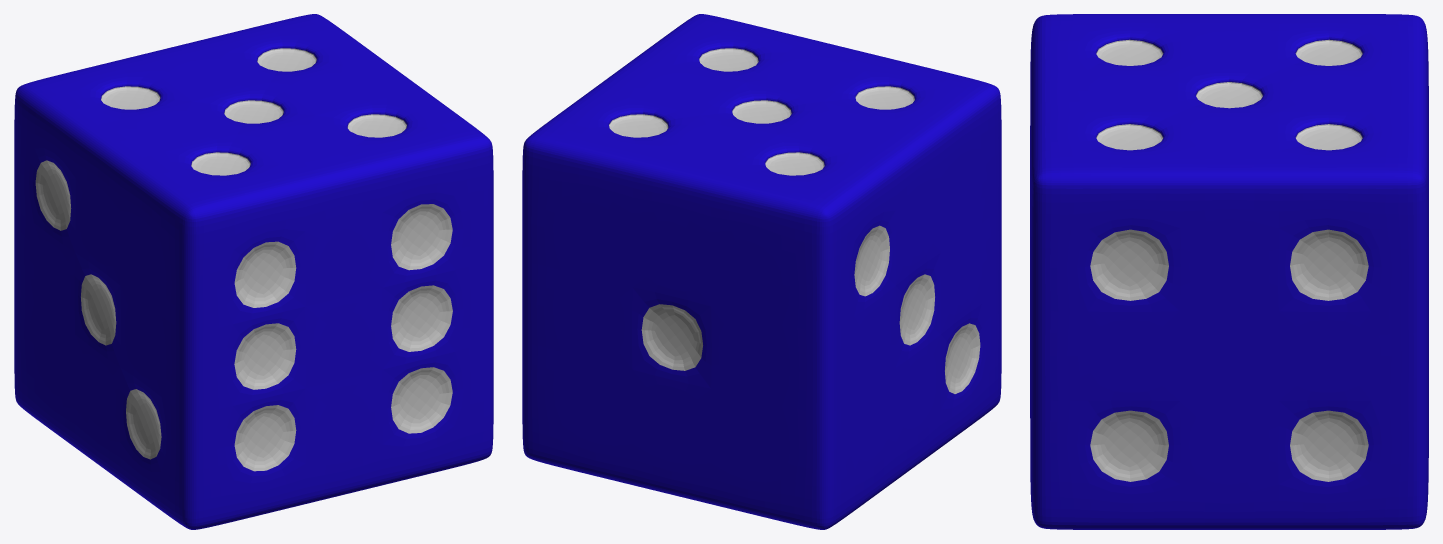
File: dice3.obj
3 views of the same model, side by side, from view 1: azimuth 30°, elevation 25°; view 2: azimuth 150°, elevation 25°; view 3: azimuth 270°, elevation 25° (orthographic). The views are drawn at different scales.
Parts seen in each view (by area): view 1: Cube; view 2: Cube; view 3: Cube.
Part boxes in pixels (x1,y1,x2,y2): Cube: (14, 14, 493, 529); Cube: (522, 14, 1001, 529); Cube: (1030, 14, 1428, 529).
Size of the model in its own units: 2 by 2 by 2.
